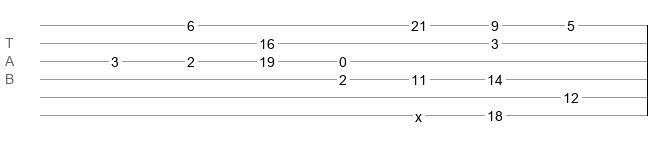0: (339, 54, 347, 64)
11: (411, 72, 427, 82)
12: (563, 90, 579, 100)
14: (487, 72, 503, 82)
16: (259, 36, 275, 46)
18: (487, 108, 503, 118)
19: (259, 54, 275, 64)
2: (187, 54, 195, 64), (339, 72, 347, 82)
21: (411, 18, 427, 28)
3: (111, 54, 119, 64), (491, 36, 499, 46)
5: (567, 18, 575, 28)
6: (187, 18, 195, 28)
9: (491, 18, 499, 28)
x: (415, 109, 422, 117)
